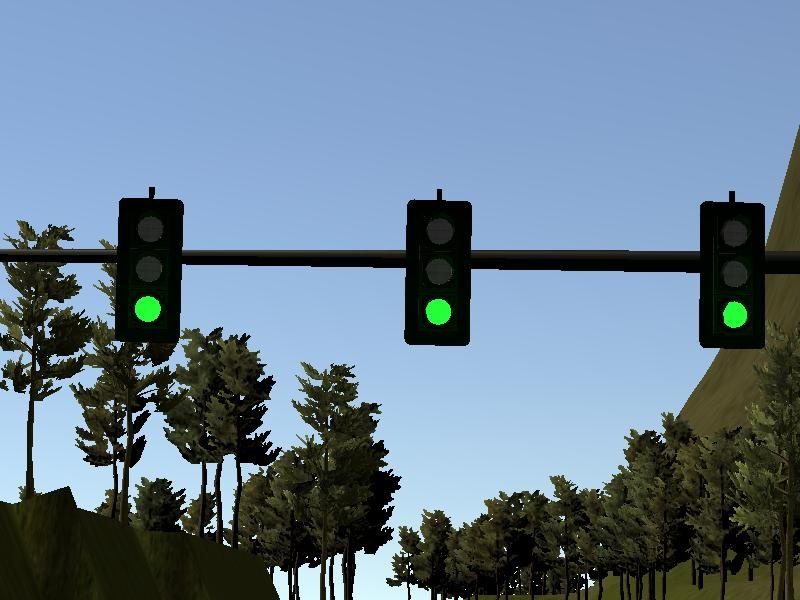green: (116, 196, 181, 348), (405, 198, 470, 350), (699, 203, 764, 355)
